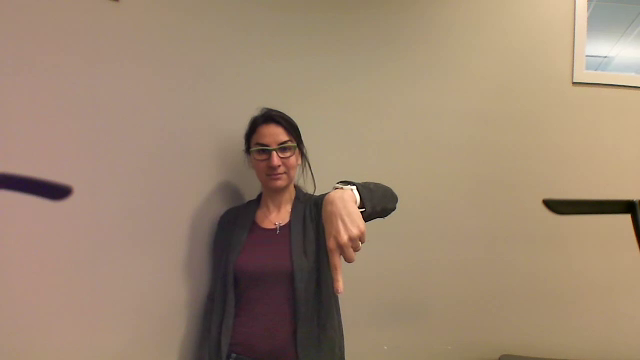down: (309, 178, 377, 301)
